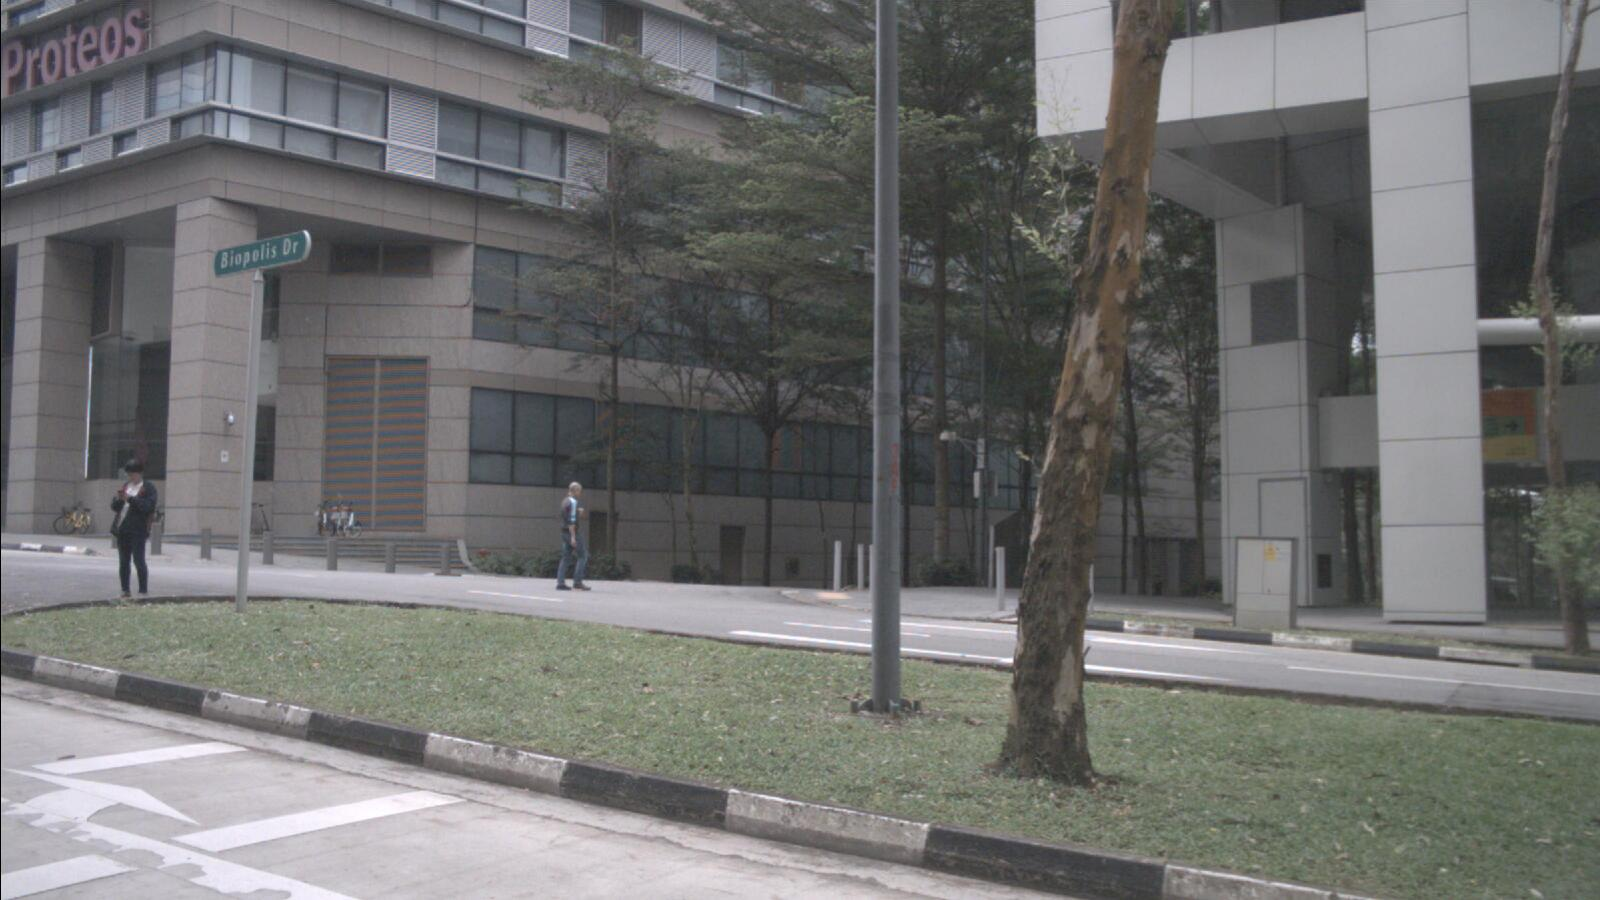human.pedestrian.adult-pedestrian.moving: (110, 458, 159, 603), (555, 482, 592, 592)
